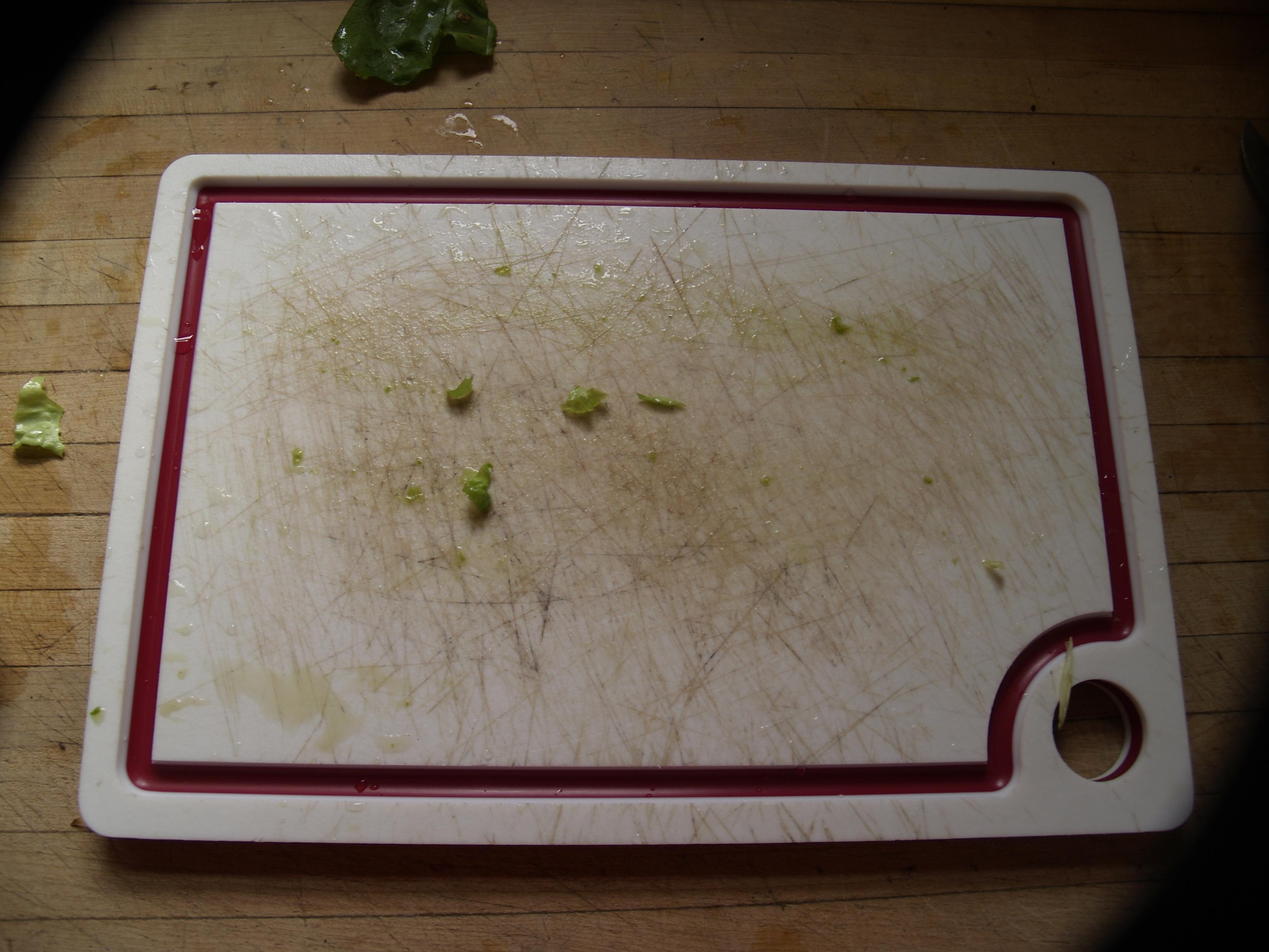gloved_hand: (63, 135, 1211, 862)
